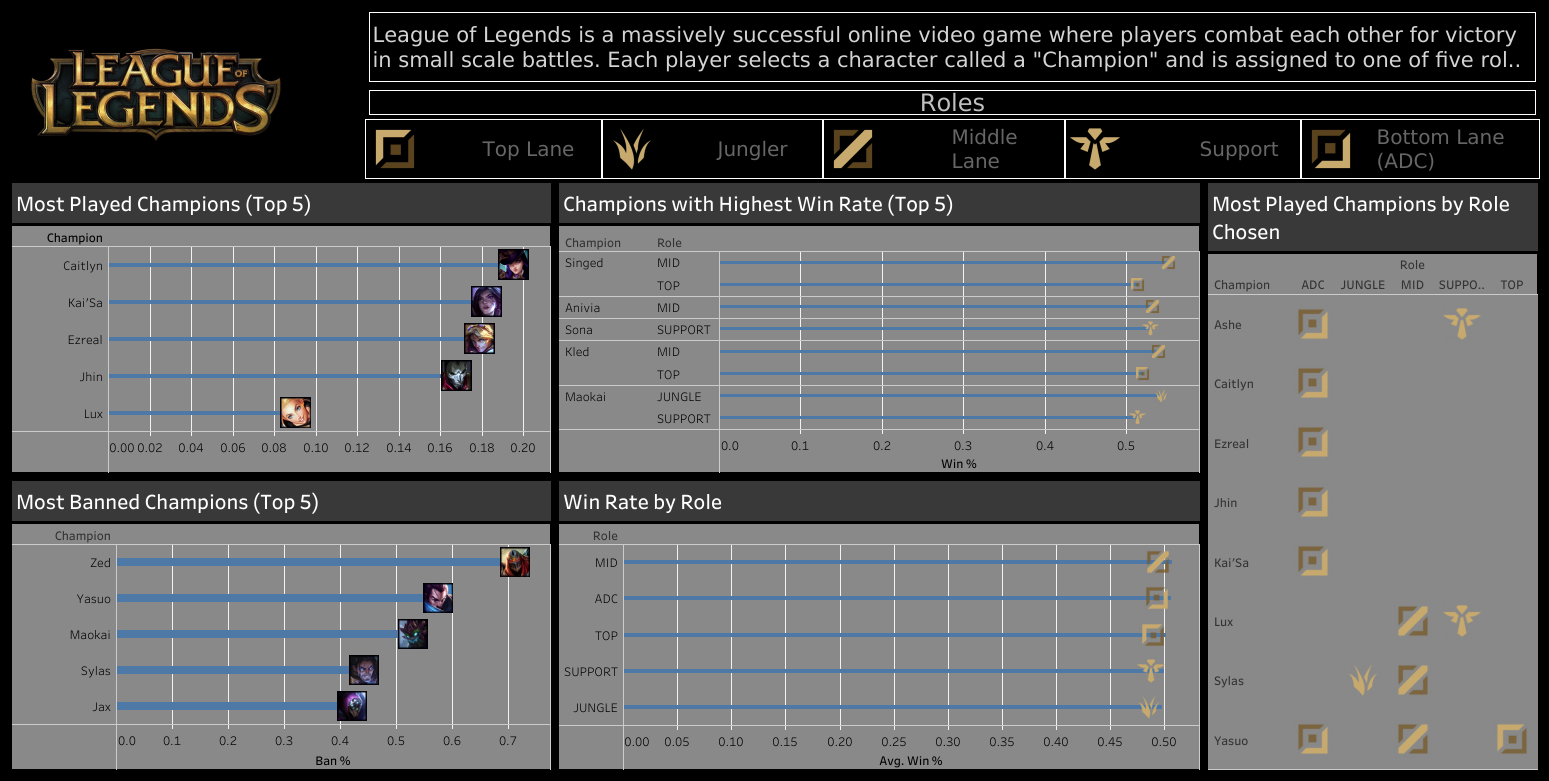

What the dashboard file says about the page in this screenshot:
{"tool":"tableau","page":{"name":"Dashboard 2","canvas":[1000,1000],"units":"permille","ordinal":0},"visuals":[{"type":"image","param":"Image/league_logo3.jpg","box":[5.2,8.3,230.2,219.8]},{"type":"text","box":[235.4,8.3,758.2,100]},{"type":"text","box":[235.4,108.4,758.2,42.1]},{"type":"image","param":"Image/top.png","box":[236,151.5,71,75.6]},{"type":"text","box":[307,151.5,80.5,75.6]},{"type":"image","param":"Image/jungle.png","box":[388.8,151.5,69.7,75.6]},{"type":"text","box":[458.5,151.5,61.3,75.6]},{"type":"image","param":"Image/mid.png","box":[531.9,151.5,78.1,75.6]},{"type":"text","box":[609.9,151.5,76.6,75.6]},{"type":"image","param":"Image/supp.png","box":[687.9,151.5,81.9,75.6]},{"type":"text","box":[769.8,151.5,69,75.6]},{"type":"image","param":"Image/bottom.png","box":[840.1,151.5,43.8,75.6]},{"type":"text","box":[883.9,151.5,109,75.6]},{"type":"worksheet","title":"Sheet 1","mark":"Automatic","rows":["Name"],"cols":["Pick %","Pick %"],"box":[5.2,228.2,352.6,381.8]},{"type":"worksheet","title":"Sheet 2","mark":"Automatic","rows":["Name","Role"],"cols":["Win %","Win %"],"box":[357.8,228.2,419,381.8]},{"type":"worksheet","title":"Sheet 4","mark":"Shape","rows":["Name"],"cols":["Role"],"box":[776.8,228.2,218.1,763.5]},{"type":"worksheet","title":"Sheet 3","mark":"Automatic","rows":["Name"],"cols":["Ban %","Ban %"],"box":[5.2,609.9,352.6,381.8]},{"type":"worksheet","title":"Sheet 5","mark":"Automatic","rows":["Role"],"cols":["Win %","Win %"],"box":[357.8,609.9,419,381.8]}]}

Visuals, with their boxes on the dashboard's canvas, which has no fixed pixel size, in thousandths of its width and height (x1, y1, x2, y2). These are canvas units, not pixel positions in the 1549x781 screenshot, which may show the page scaled, cropped or inside an application window:
image: [left=5, top=8, right=235, bottom=228]
text: [left=235, top=8, right=994, bottom=108]
text: [left=235, top=108, right=994, bottom=150]
image: [left=236, top=152, right=307, bottom=227]
text: [left=307, top=152, right=388, bottom=227]
image: [left=389, top=152, right=458, bottom=227]
text: [left=458, top=152, right=520, bottom=227]
image: [left=532, top=152, right=610, bottom=227]
text: [left=610, top=152, right=686, bottom=227]
image: [left=688, top=152, right=770, bottom=227]
text: [left=770, top=152, right=839, bottom=227]
image: [left=840, top=152, right=884, bottom=227]
text: [left=884, top=152, right=993, bottom=227]
"Sheet 1" worksheet: [left=5, top=228, right=358, bottom=610]
"Sheet 2" worksheet: [left=358, top=228, right=777, bottom=610]
"Sheet 4" worksheet (Shape marks): [left=777, top=228, right=995, bottom=992]
"Sheet 3" worksheet: [left=5, top=610, right=358, bottom=992]
"Sheet 5" worksheet: [left=358, top=610, right=777, bottom=992]
